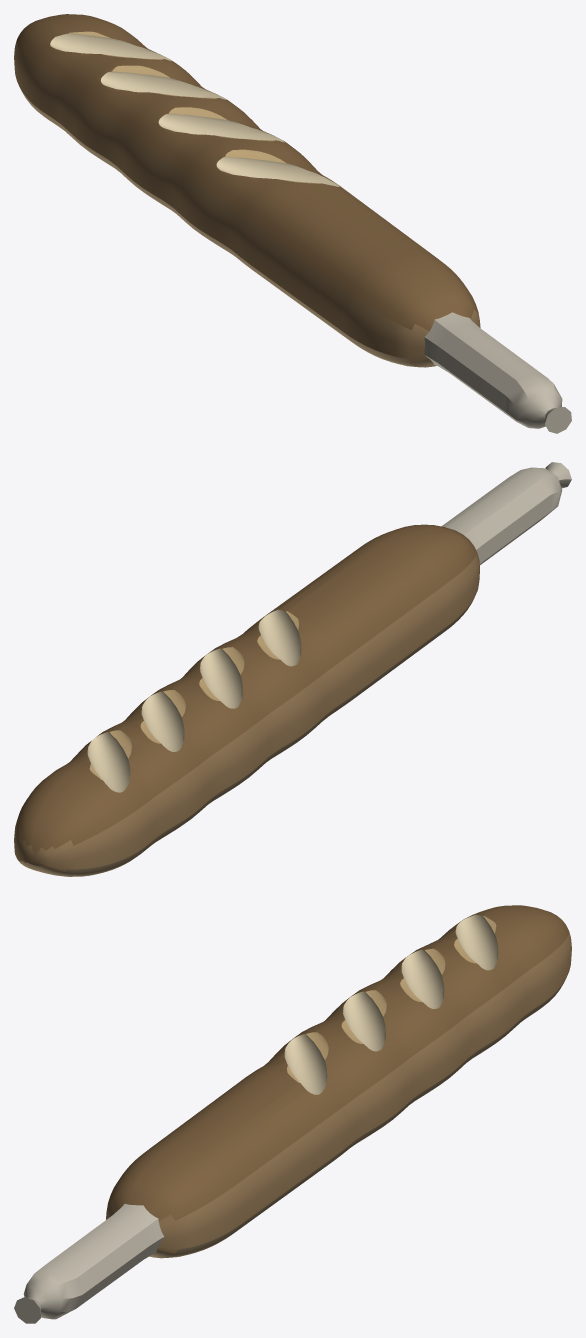
Rendered from w_bread.glb.
3 renders of one model, top to bottom at view 1: azimuth 30°, elevation 25°; view 2: azimuth 150°, elevation 25°; view 3: azimuth 330°, elevation 25°, orthographic.
Visible parts, largest first — view 1: bread_wzB.002, bread_wzB, sleeve_wzA, bread_wzN, bread_wzB.001, bread_wzN.001; view 2: bread_wzB.002, bread_wzB, bread_wzN, sleeve_wzA, bread_wzB.001, bread_wzN.001; view 3: bread_wzB.002, bread_wzB, sleeve_wzA, bread_wzN, bread_wzB.001, bread_wzN.001.
Part boxes in pixels (x1,y1,x2,y2): bread_wzB.002: (16,14,477,331); bread_wzB: (14,40,480,363); sleeve_wzA: (424,312,571,433); bread_wzN: (50,33,339,186); bread_wzB.001: (20,88,436,367); bread_wzN.001: (69,31,321,183); bread_wzB.002: (16,524,477,851); bread_wzB: (14,553,479,871); bread_wzN: (87,609,301,792); sleeve_wzA: (441,462,571,564); bread_wzB.001: (15,599,473,876); bread_wzN.001: (89,611,298,780); bread_wzB.002: (108,905,569,1220); bread_wzB: (106,931,571,1253); sleeve_wzA: (14,1204,164,1323); bread_wzN: (284,914,498,1094); bread_wzB.001: (149,979,565,1258); bread_wzN.001: (287,916,496,1082).
Bounding box in the file's own units: 0.2221 × 0.1673 × 1.79.
